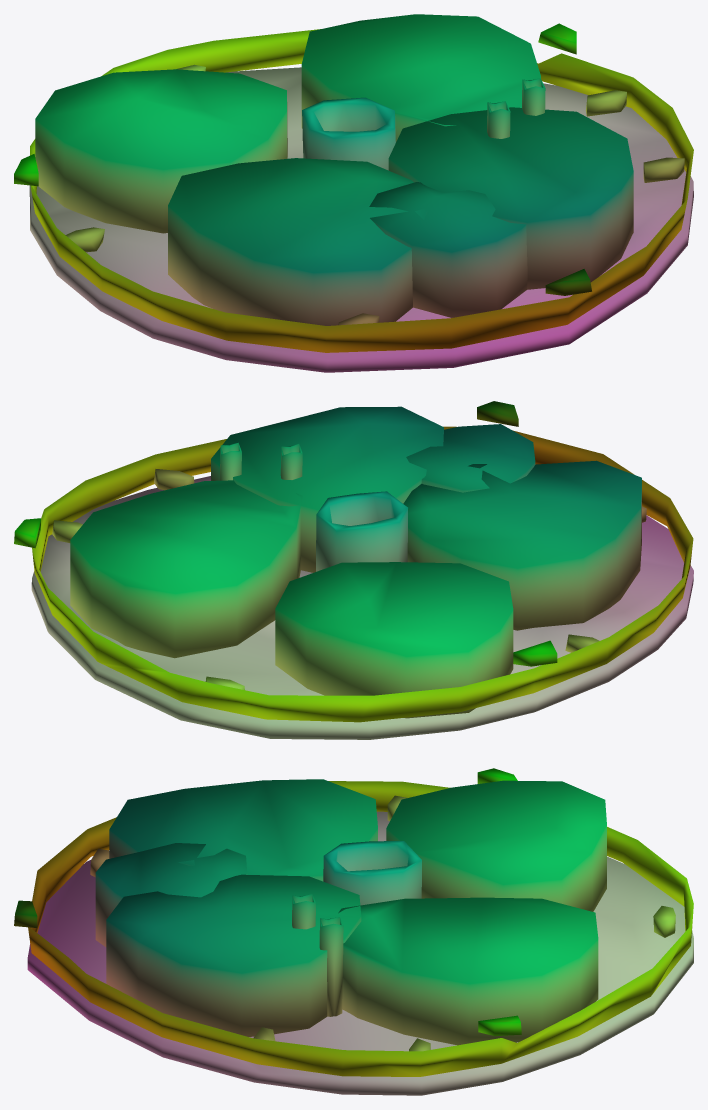
The model's file is thigh_rifle_0_LOD1.glb.
The picture shows the model from 3 angles, top to bottom: view 1: azimuth 30°, elevation 25°; view 2: azimuth 150°, elevation 25°; view 3: azimuth 270°, elevation 25°; orthographic projection. The views are drawn at different scales.
Parts seen in each view (by area): view 1: thigh_rifle_0_LOD1; view 2: thigh_rifle_0_LOD1; view 3: thigh_rifle_0_LOD1.
Part boxes in pixels (x1,y1,x2,y2): thigh_rifle_0_LOD1: (14,14,693,372); thigh_rifle_0_LOD1: (14,401,693,739); thigh_rifle_0_LOD1: (14,768,693,1095).
Bounding box in the file's own units: 0.1709 × 0.0317 × 0.1808.
